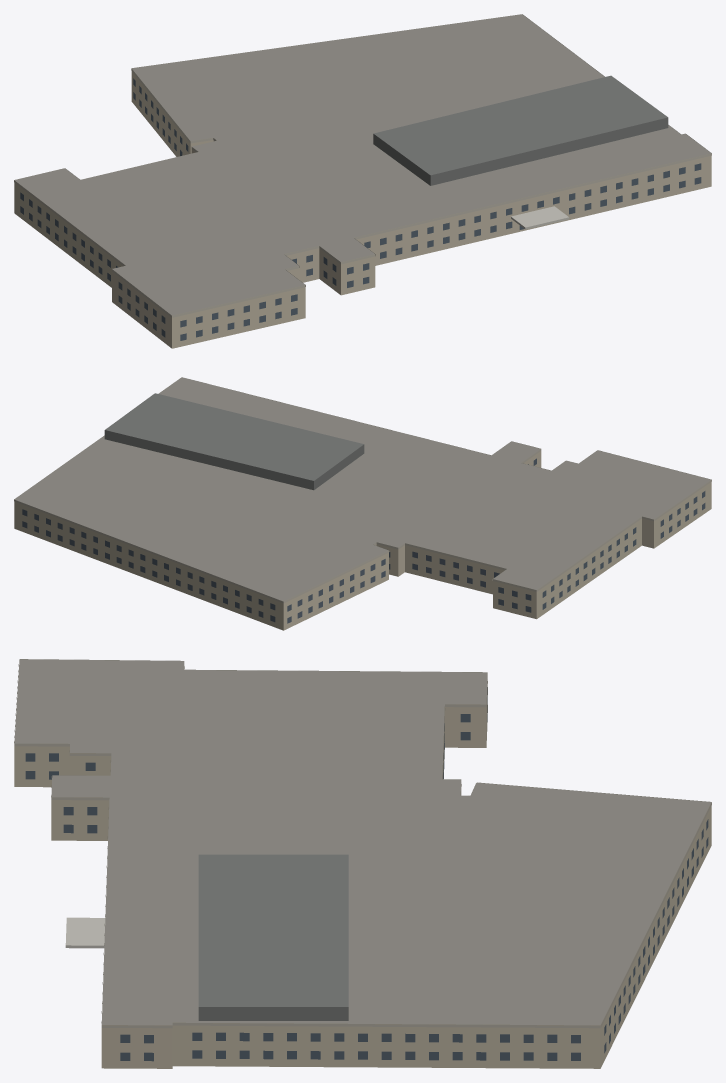
Rendered from hilton-inn-riverfront-nlr.glb.
3 renders of one model, top to bottom at view 1: azimuth 30°, elevation 25°; view 2: azimuth 150°, elevation 25°; view 3: azimuth 270°, elevation 25°, orthographic. The views are drawn at different scales.
Parts seen in each view (by area): view 1: hilton_inn_riverfront_nlr; view 2: hilton_inn_riverfront_nlr; view 3: hilton_inn_riverfront_nlr.
Boxes of the visible parts, x1=… form: hilton_inn_riverfront_nlr: x1=14, y1=14, x2=711, y2=348; hilton_inn_riverfront_nlr: x1=14, y1=377, x2=711, y2=630; hilton_inn_riverfront_nlr: x1=14, y1=659, x2=711, y2=1068.
Bounding box in the file's own units: 132 × 9.64 × 106.
